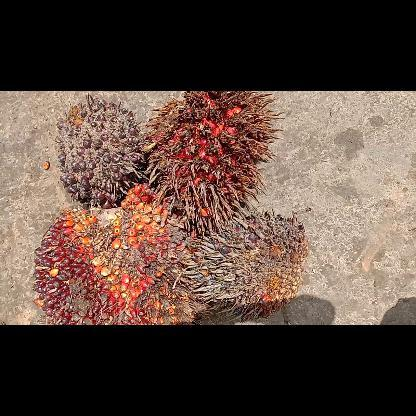Kurang masak: (53, 93, 146, 207)
TBS abnormal: (179, 208, 307, 322)
TBS masak: (31, 182, 191, 324)
Terlalu masak: (140, 91, 284, 231)
